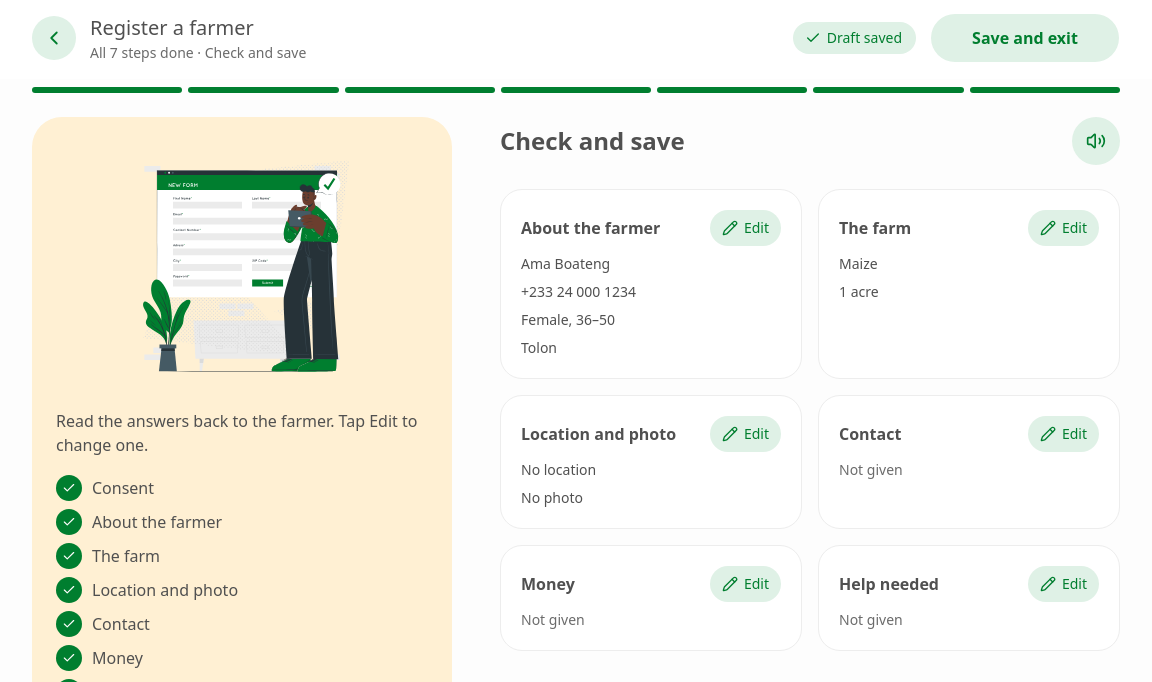
Test: registering a farmer › Edit on Check and save opens that step, and Done comes back
Click the button named "Edit The farm": (1063, 228) [1028,210,1099,246]
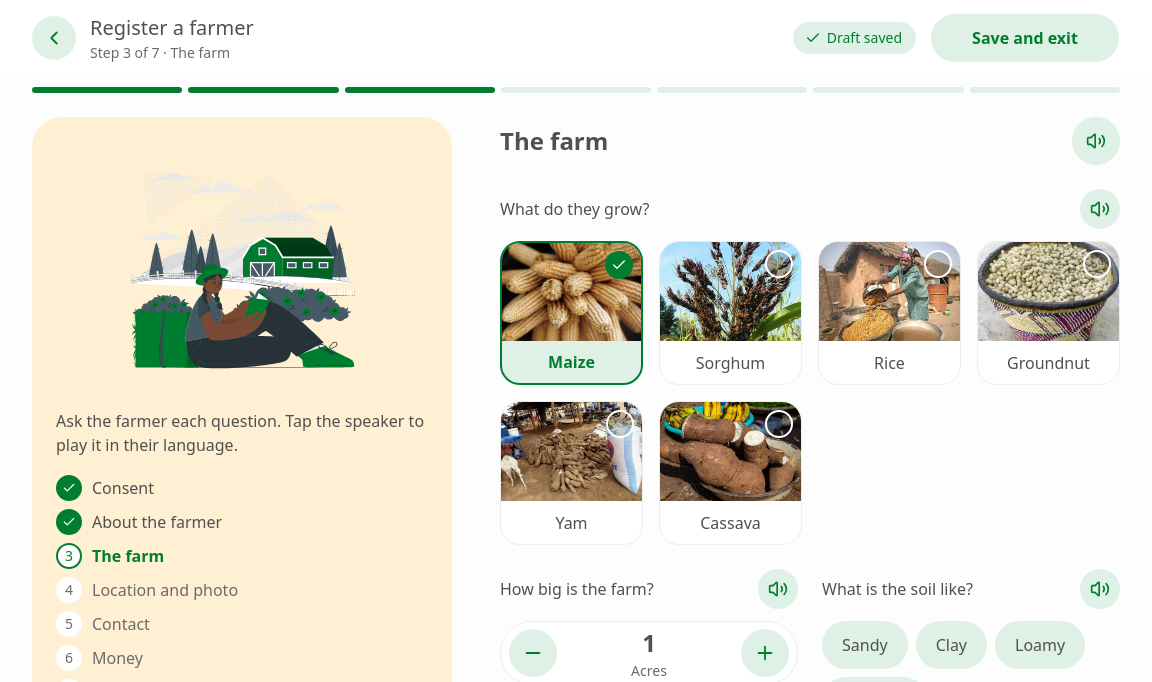
Result: the text "Step 3 of 7" is shown at [90,43,160,62]
Click the checkbox labelled "Rice": (890, 313) [818,241,961,385]
(page scrolled)
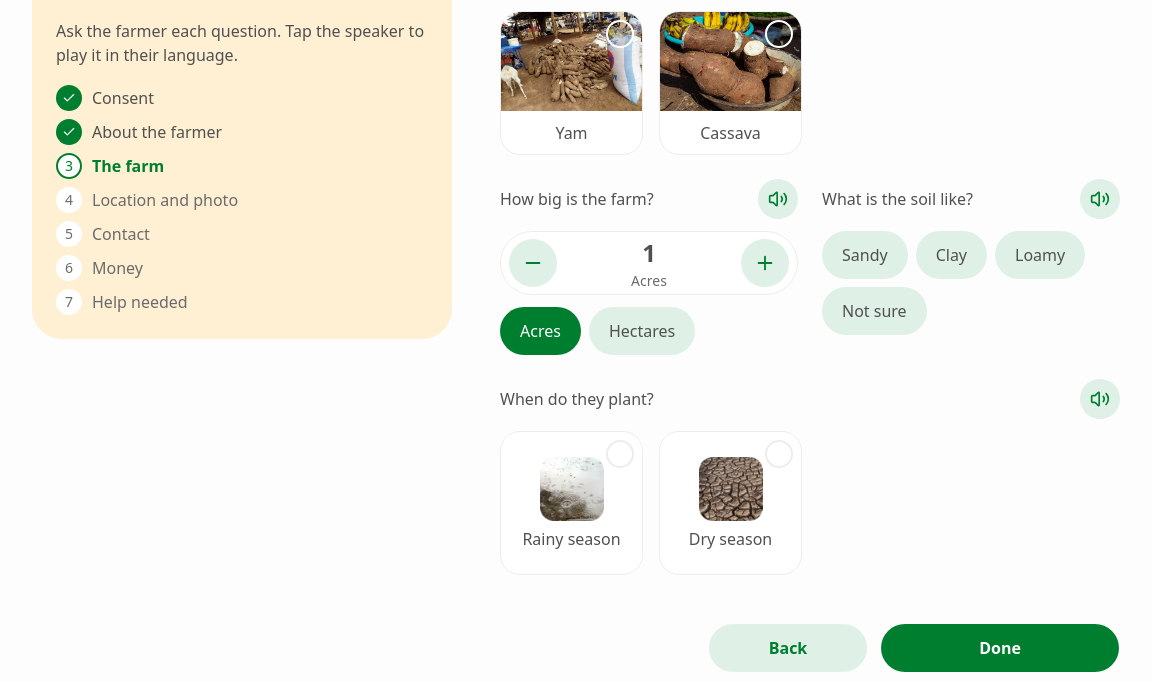
Click the button "Done": (1000, 648) [880,623,1120,673]
(page scrolled)
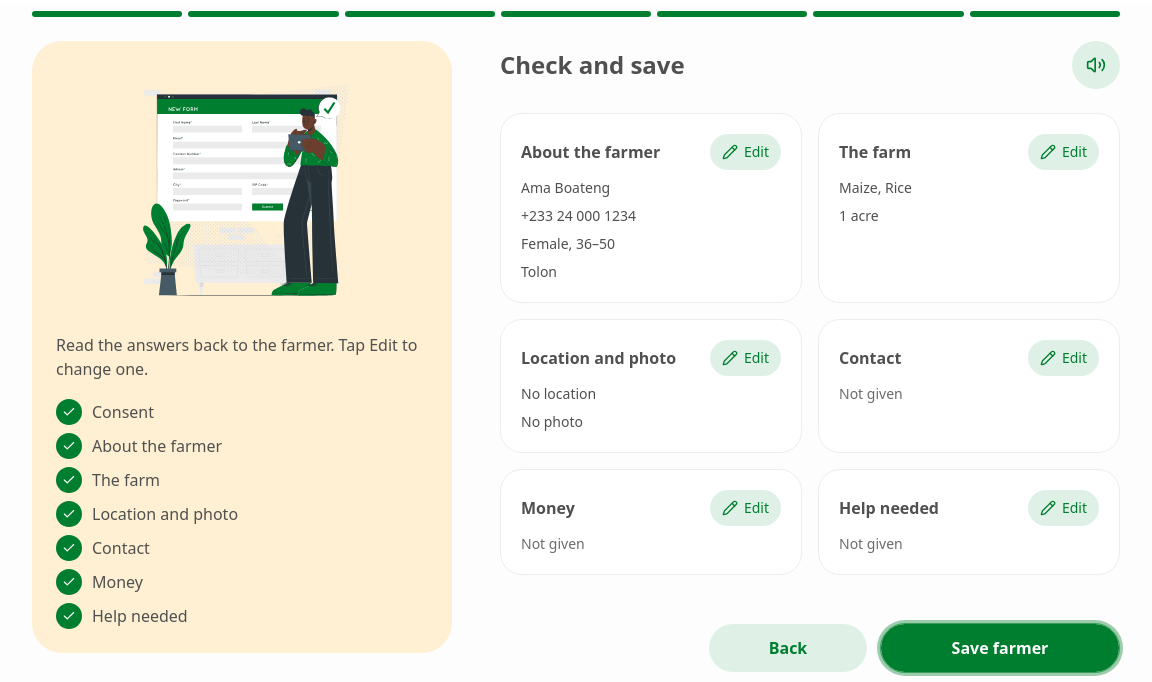
Result: the heading "Check and save" is shown at [500,47,685,83]
Result: the text "Maize, Rice" is shown at [839,178,912,197]
